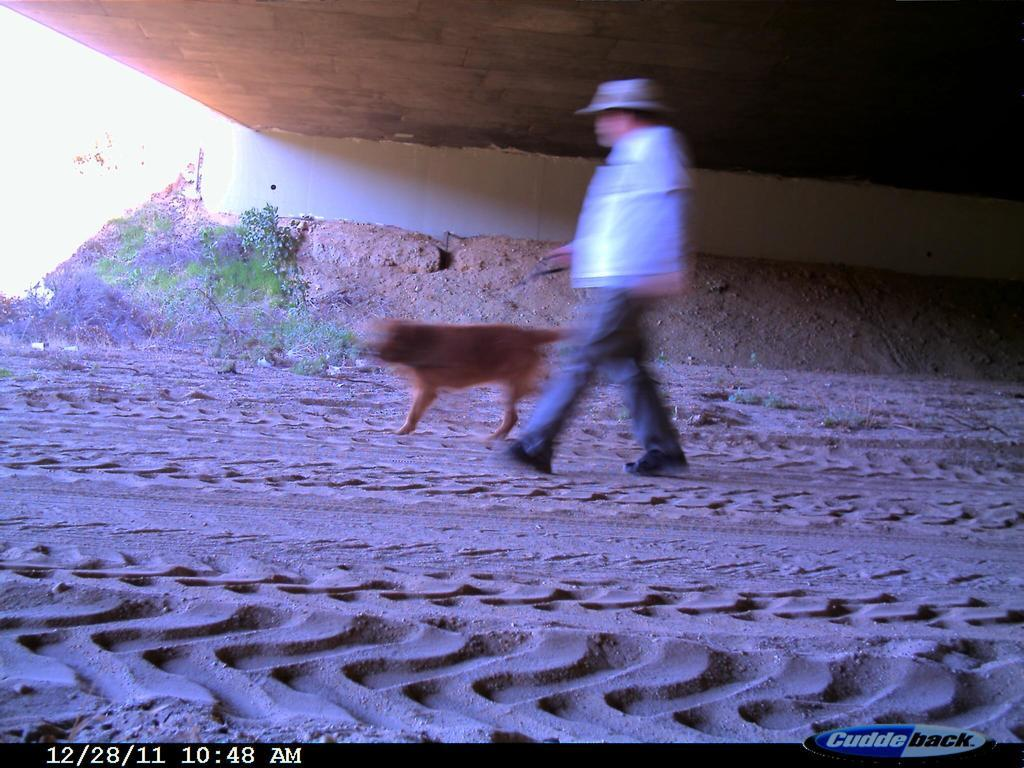dog: (336, 300, 593, 449)
